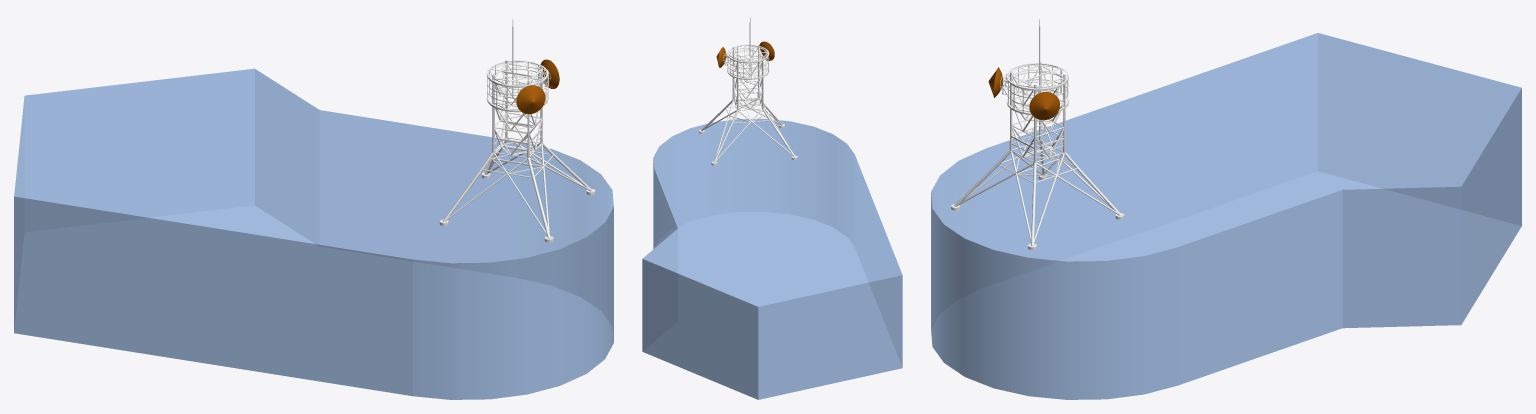
The model's file is ang羽地ダム.glb.
3 renders of one model, left to right at view 1: azimuth 30°, elevation 25°; view 2: azimuth 150°, elevation 25°; view 3: azimuth 270°, elevation 25°, orthographic. The views are drawn at different scales.
Visible parts, largest first — view 1: group_3, group_7, group_68.001; view 2: group_3, group_68.001; view 3: group_3, group_7.004, group_68.001.
Boxes of the visible parts, box(x1,y1,x2,y2) form: group_3: box(14, 68, 613, 399); group_7: box(516, 85, 544, 113); group_68.001: box(489, 61, 545, 85); group_3: box(642, 118, 902, 399); group_68.001: box(728, 45, 767, 61); group_3: box(931, 33, 1521, 399); group_7.004: box(1030, 92, 1059, 119); group_68.001: box(1011, 63, 1064, 88).
Size of the model in its own units: 35.8 by 24.5 by 39.08.
